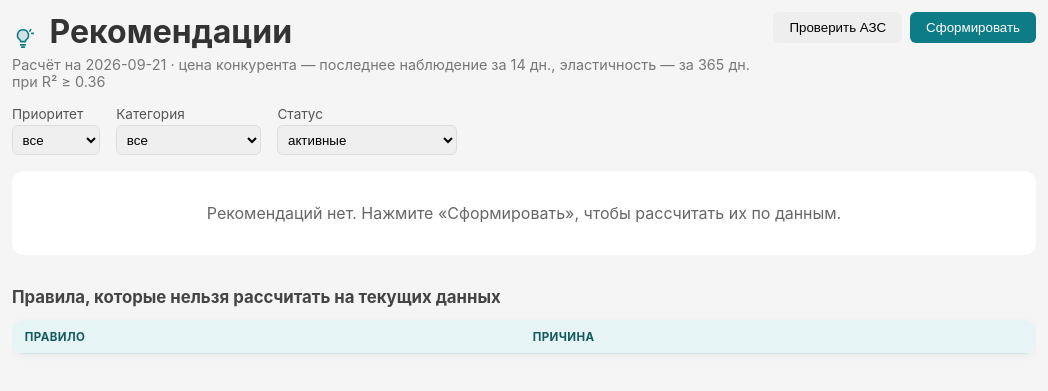
Test: RecommendationsView › кнопка «Сформировать» сообщает, сколько рекомендаций сохранено
The image size is (1048, 391).
Click the button "Сформировать".
click(973, 28)  # box x1=910 y1=12 x2=1036 y2=43
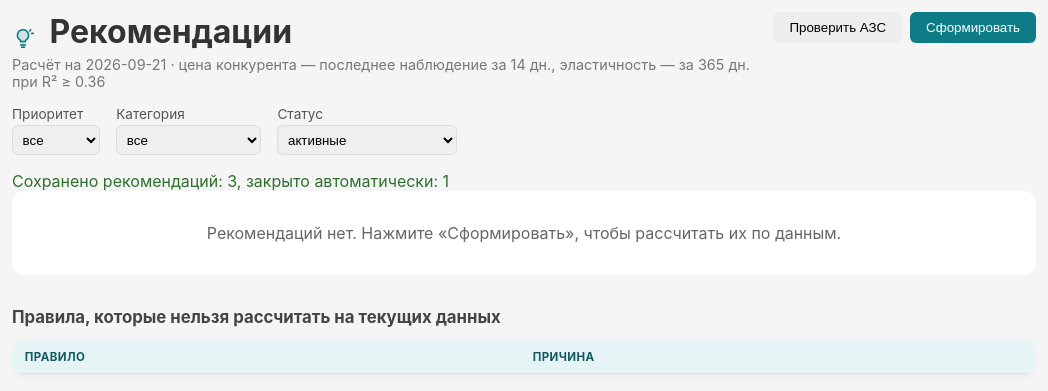
Result: the text "Сохранено рекомендаций: 3, закрыто автоматически: 1" is shown at x1=12 y1=171 x2=449 y2=191
